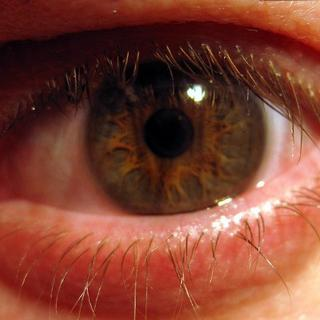pupil: (143, 110, 190, 156)
